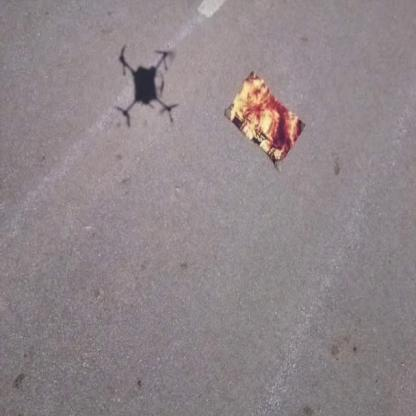fire-poster: (223, 69, 306, 172)
